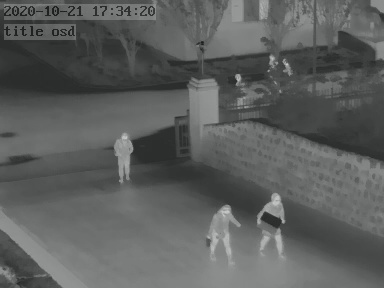person: (257, 191, 285, 256), (210, 204, 235, 261), (114, 131, 134, 182), (236, 71, 249, 107)
